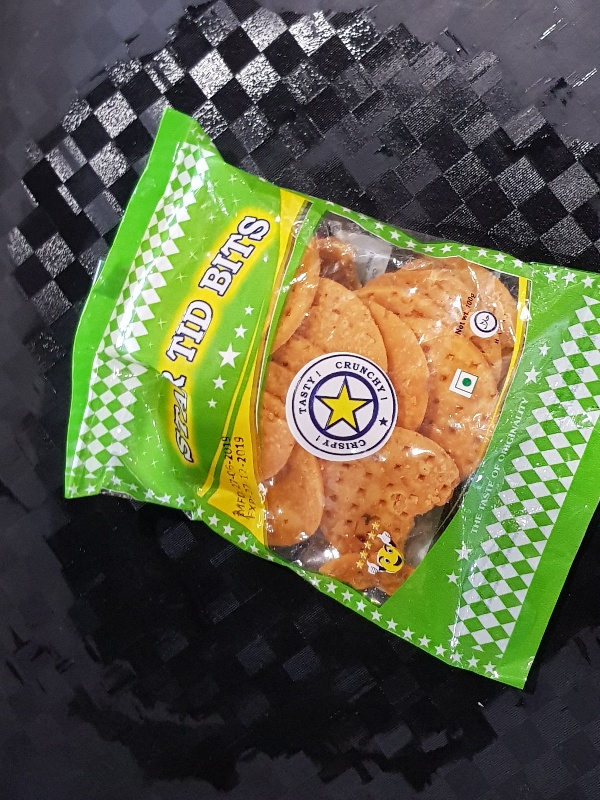Star Tidbits 'O' Ring: (60, 104, 600, 693)
